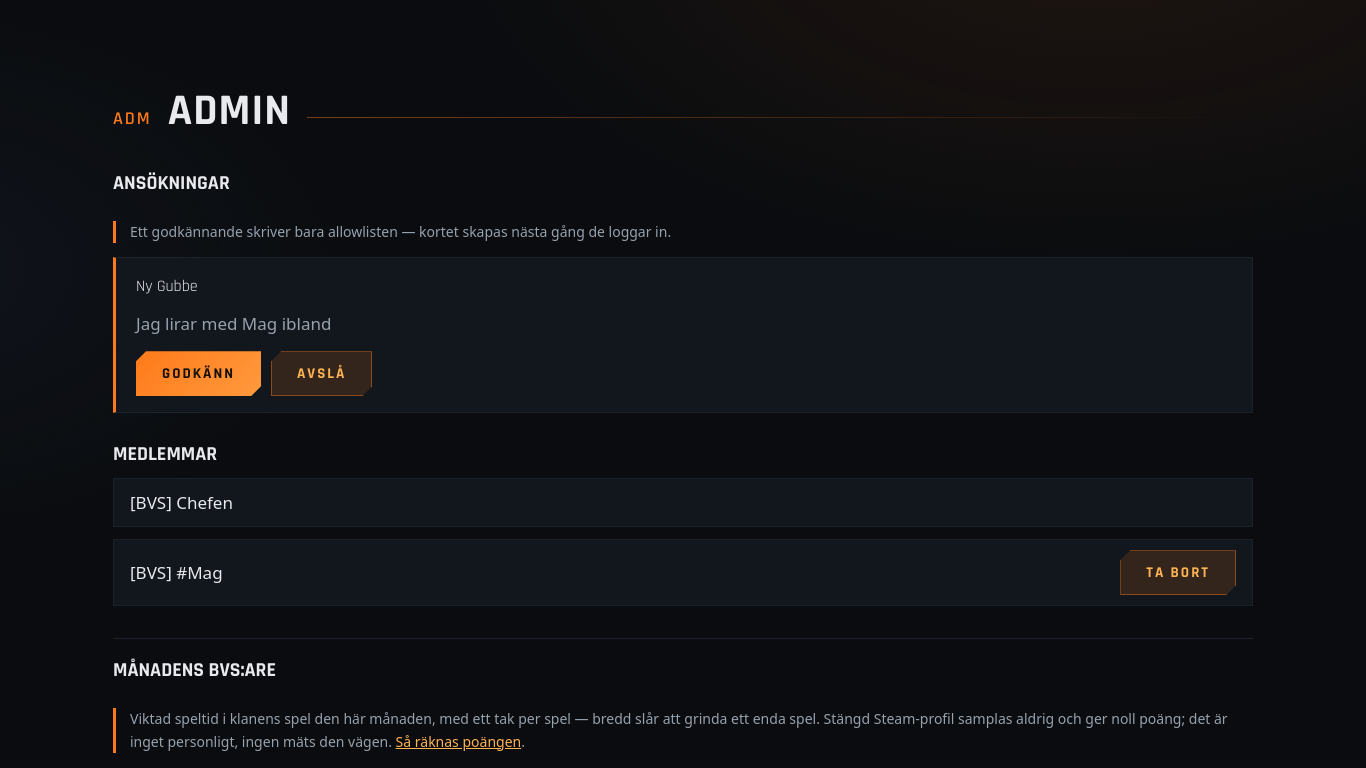
it: deciding on an application › says so when the decision did not go through
The width and height of the screenshot is (1366, 768).
Click the button "Godkänn": (198, 374) x1=136 y1=351 x2=261 y2=396
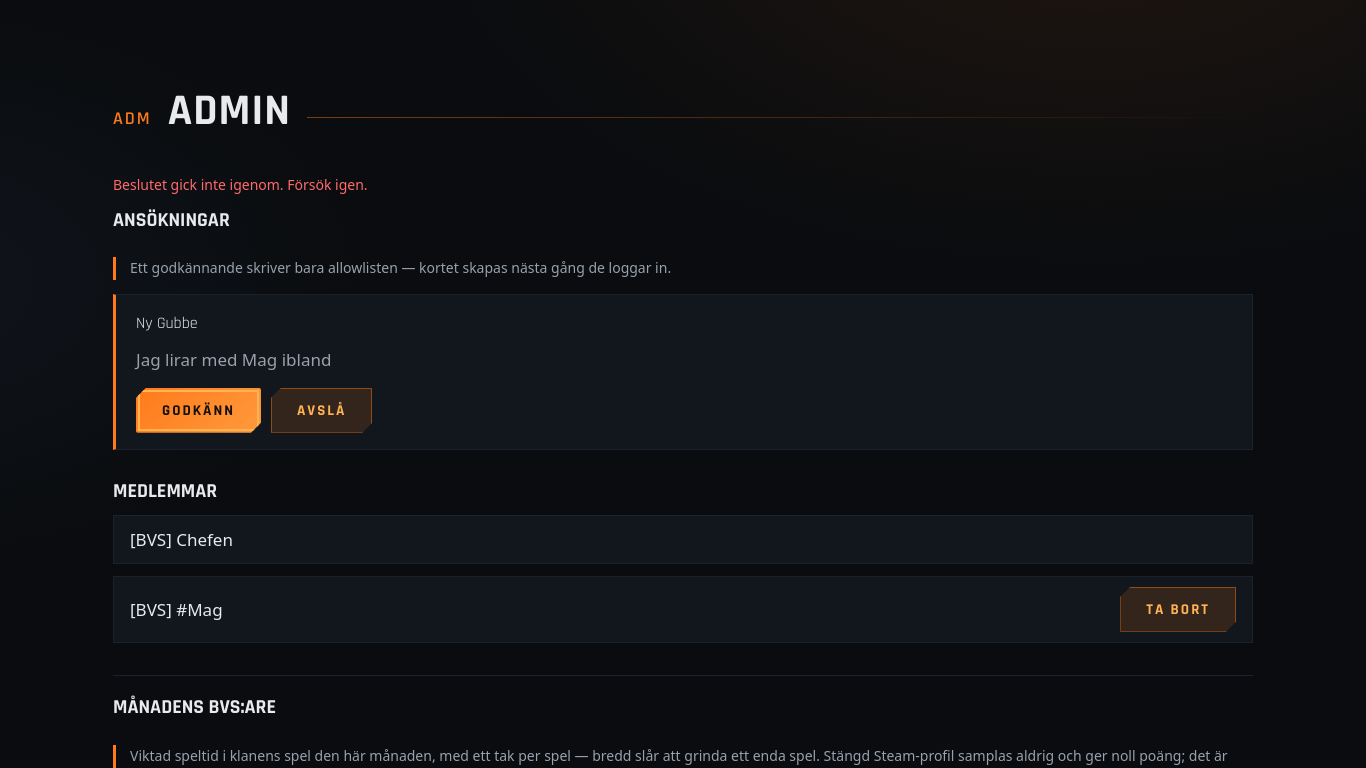
Now the text "Beslutet gick inte igenom. Försök igen." is shown, box x1=113 y1=175 x2=368 y2=194
